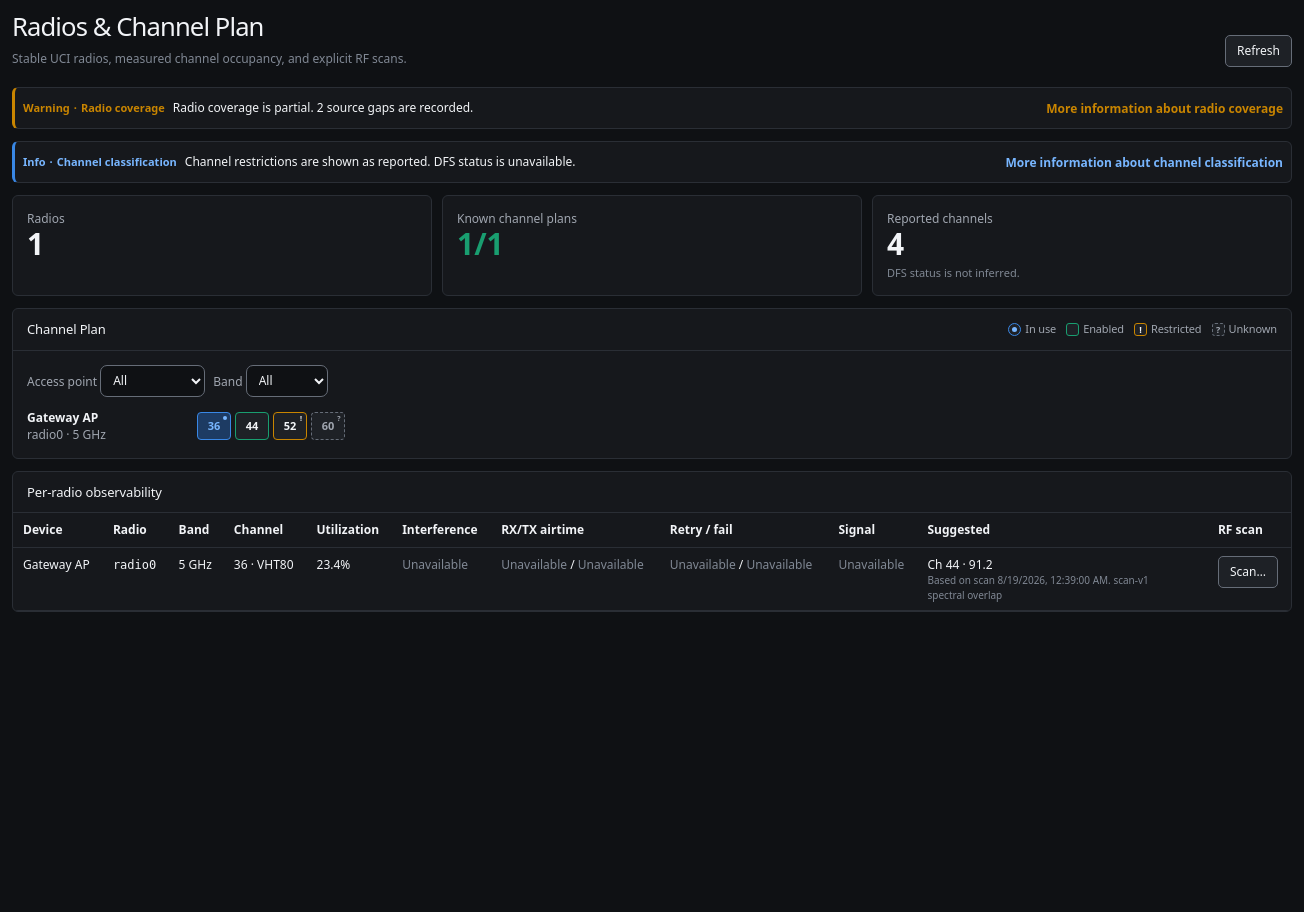
it: Radios › summarizes partial radio coverage and discloses source gaps
The width and height of the screenshot is (1304, 912).
Check: the text "Radio coverage is partial. 2 source gaps are recorded." is shown, box [173,99,473,116]
Step 1. Click the heading "More information about radio coverage" → (1165, 108), box [1046,94,1283,122]
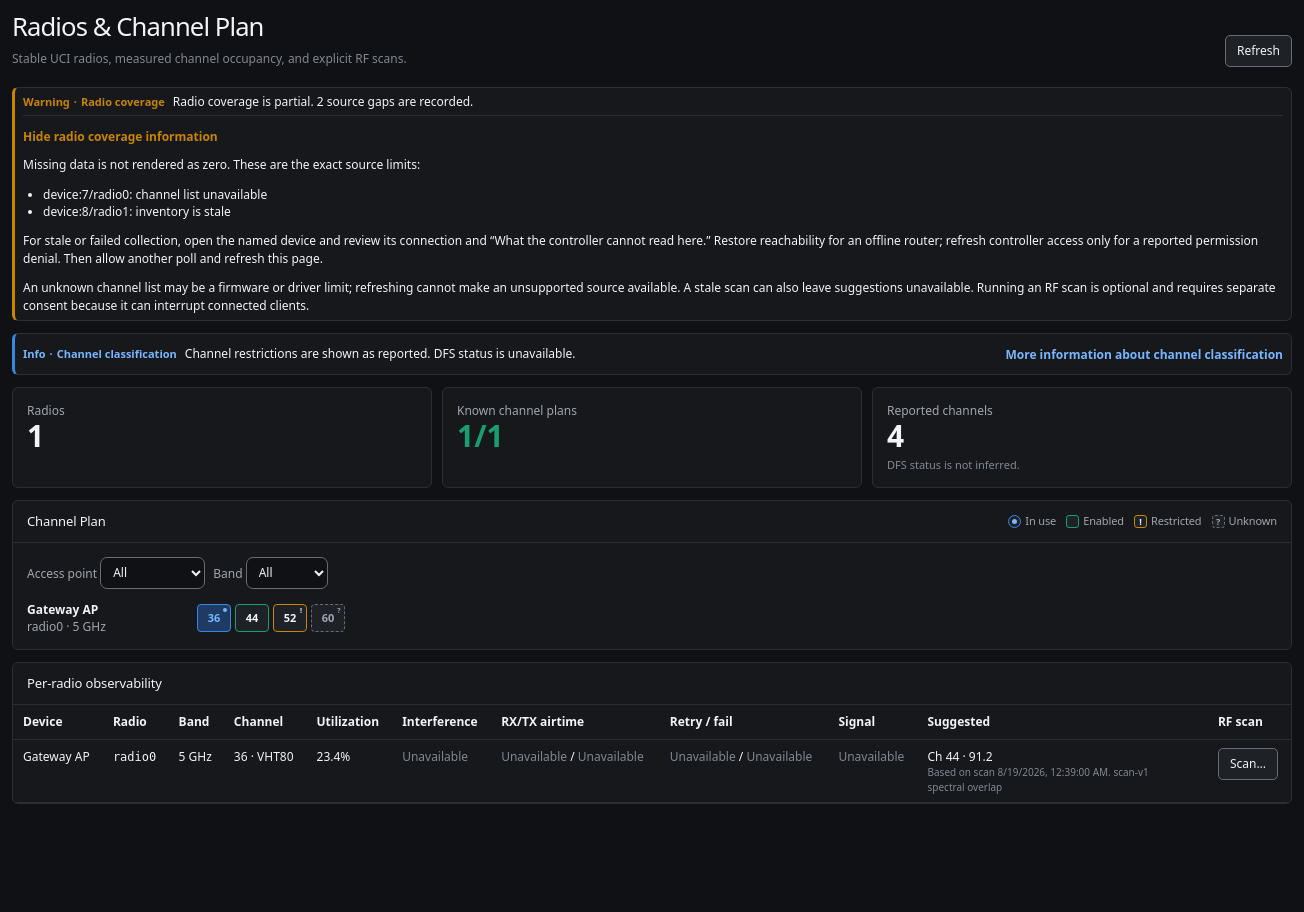
Check: the list item "device:7/radio0: channel list unavailable" is shown, box [43,186,267,203]
Check: the list item "device:8/radio1: inventory is stale" is shown, box [43,203,231,220]
Check: the text "refresh controller access only for a reported permission denial" is shown, box [23,232,1258,267]
